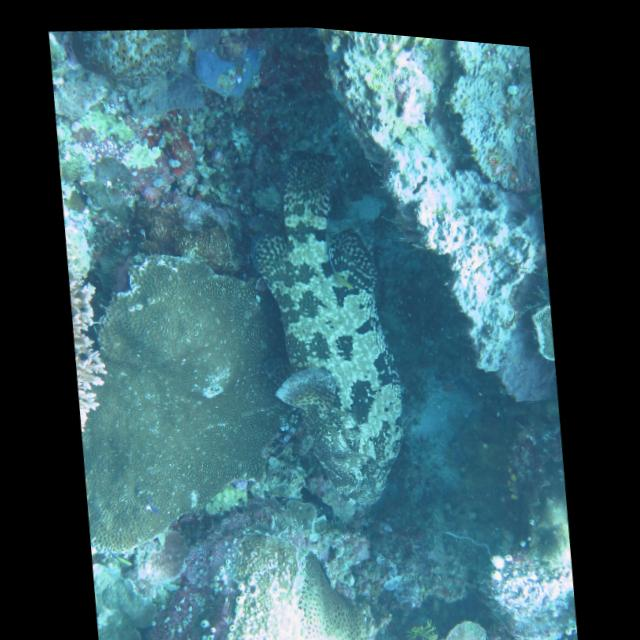Groupers: (227, 135, 416, 519)
